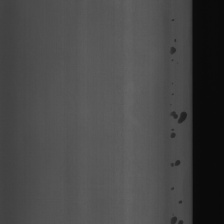oil_spot: (169, 16, 180, 70), (169, 103, 189, 126), (169, 157, 181, 175), (168, 208, 181, 224), (167, 128, 179, 139), (169, 187, 177, 197)
